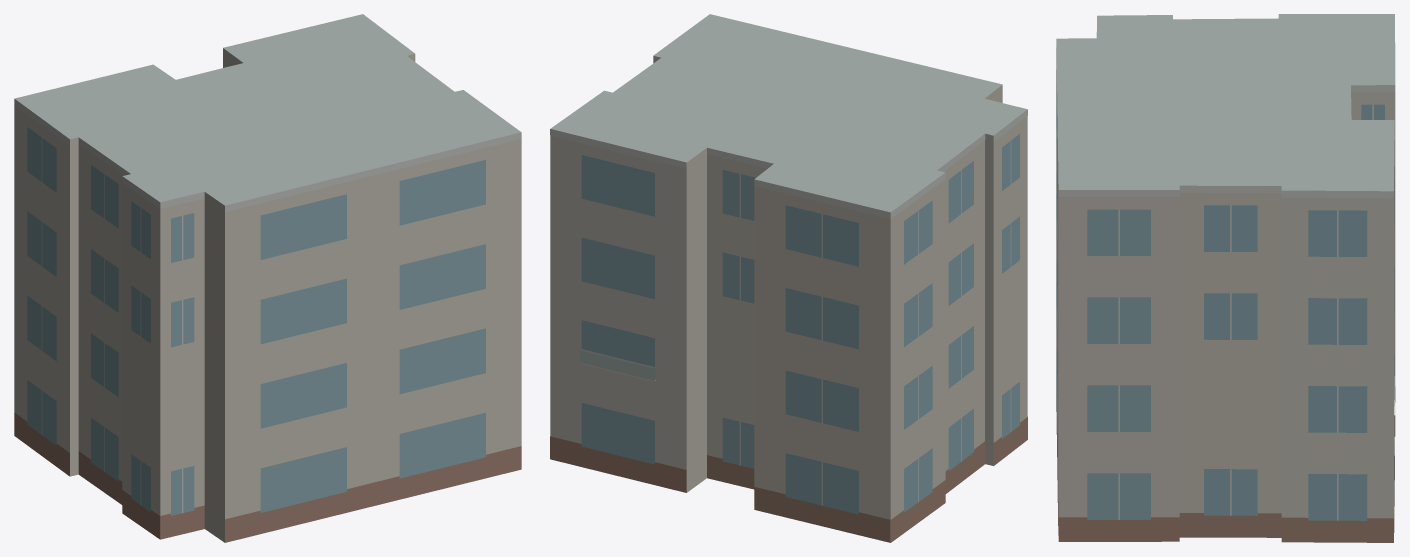
File: survey-upis-32813819.glb
The picture shows the model from 3 angles, left to right: view 1: azimuth 30°, elevation 25°; view 2: azimuth 150°, elevation 25°; view 3: azimuth 270°, elevation 25°; orthographic projection. The views are drawn at different scales.
Parts seen in each view (by area): view 1: survey-upis-32813819.tmp; view 2: survey-upis-32813819.tmp; view 3: survey-upis-32813819.tmp.
Part boxes in pixels (box(x1,y1,x2,y2)): survey-upis-32813819.tmp: box(14, 14, 521, 542); survey-upis-32813819.tmp: box(550, 14, 1027, 542); survey-upis-32813819.tmp: box(1056, 14, 1395, 542).
Size of the model in its own units: 13.25 by 12.25 by 10.72.
